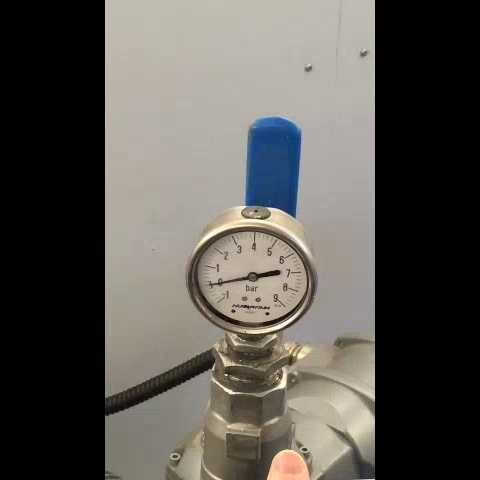Round_Meter: (194, 229, 311, 330)
